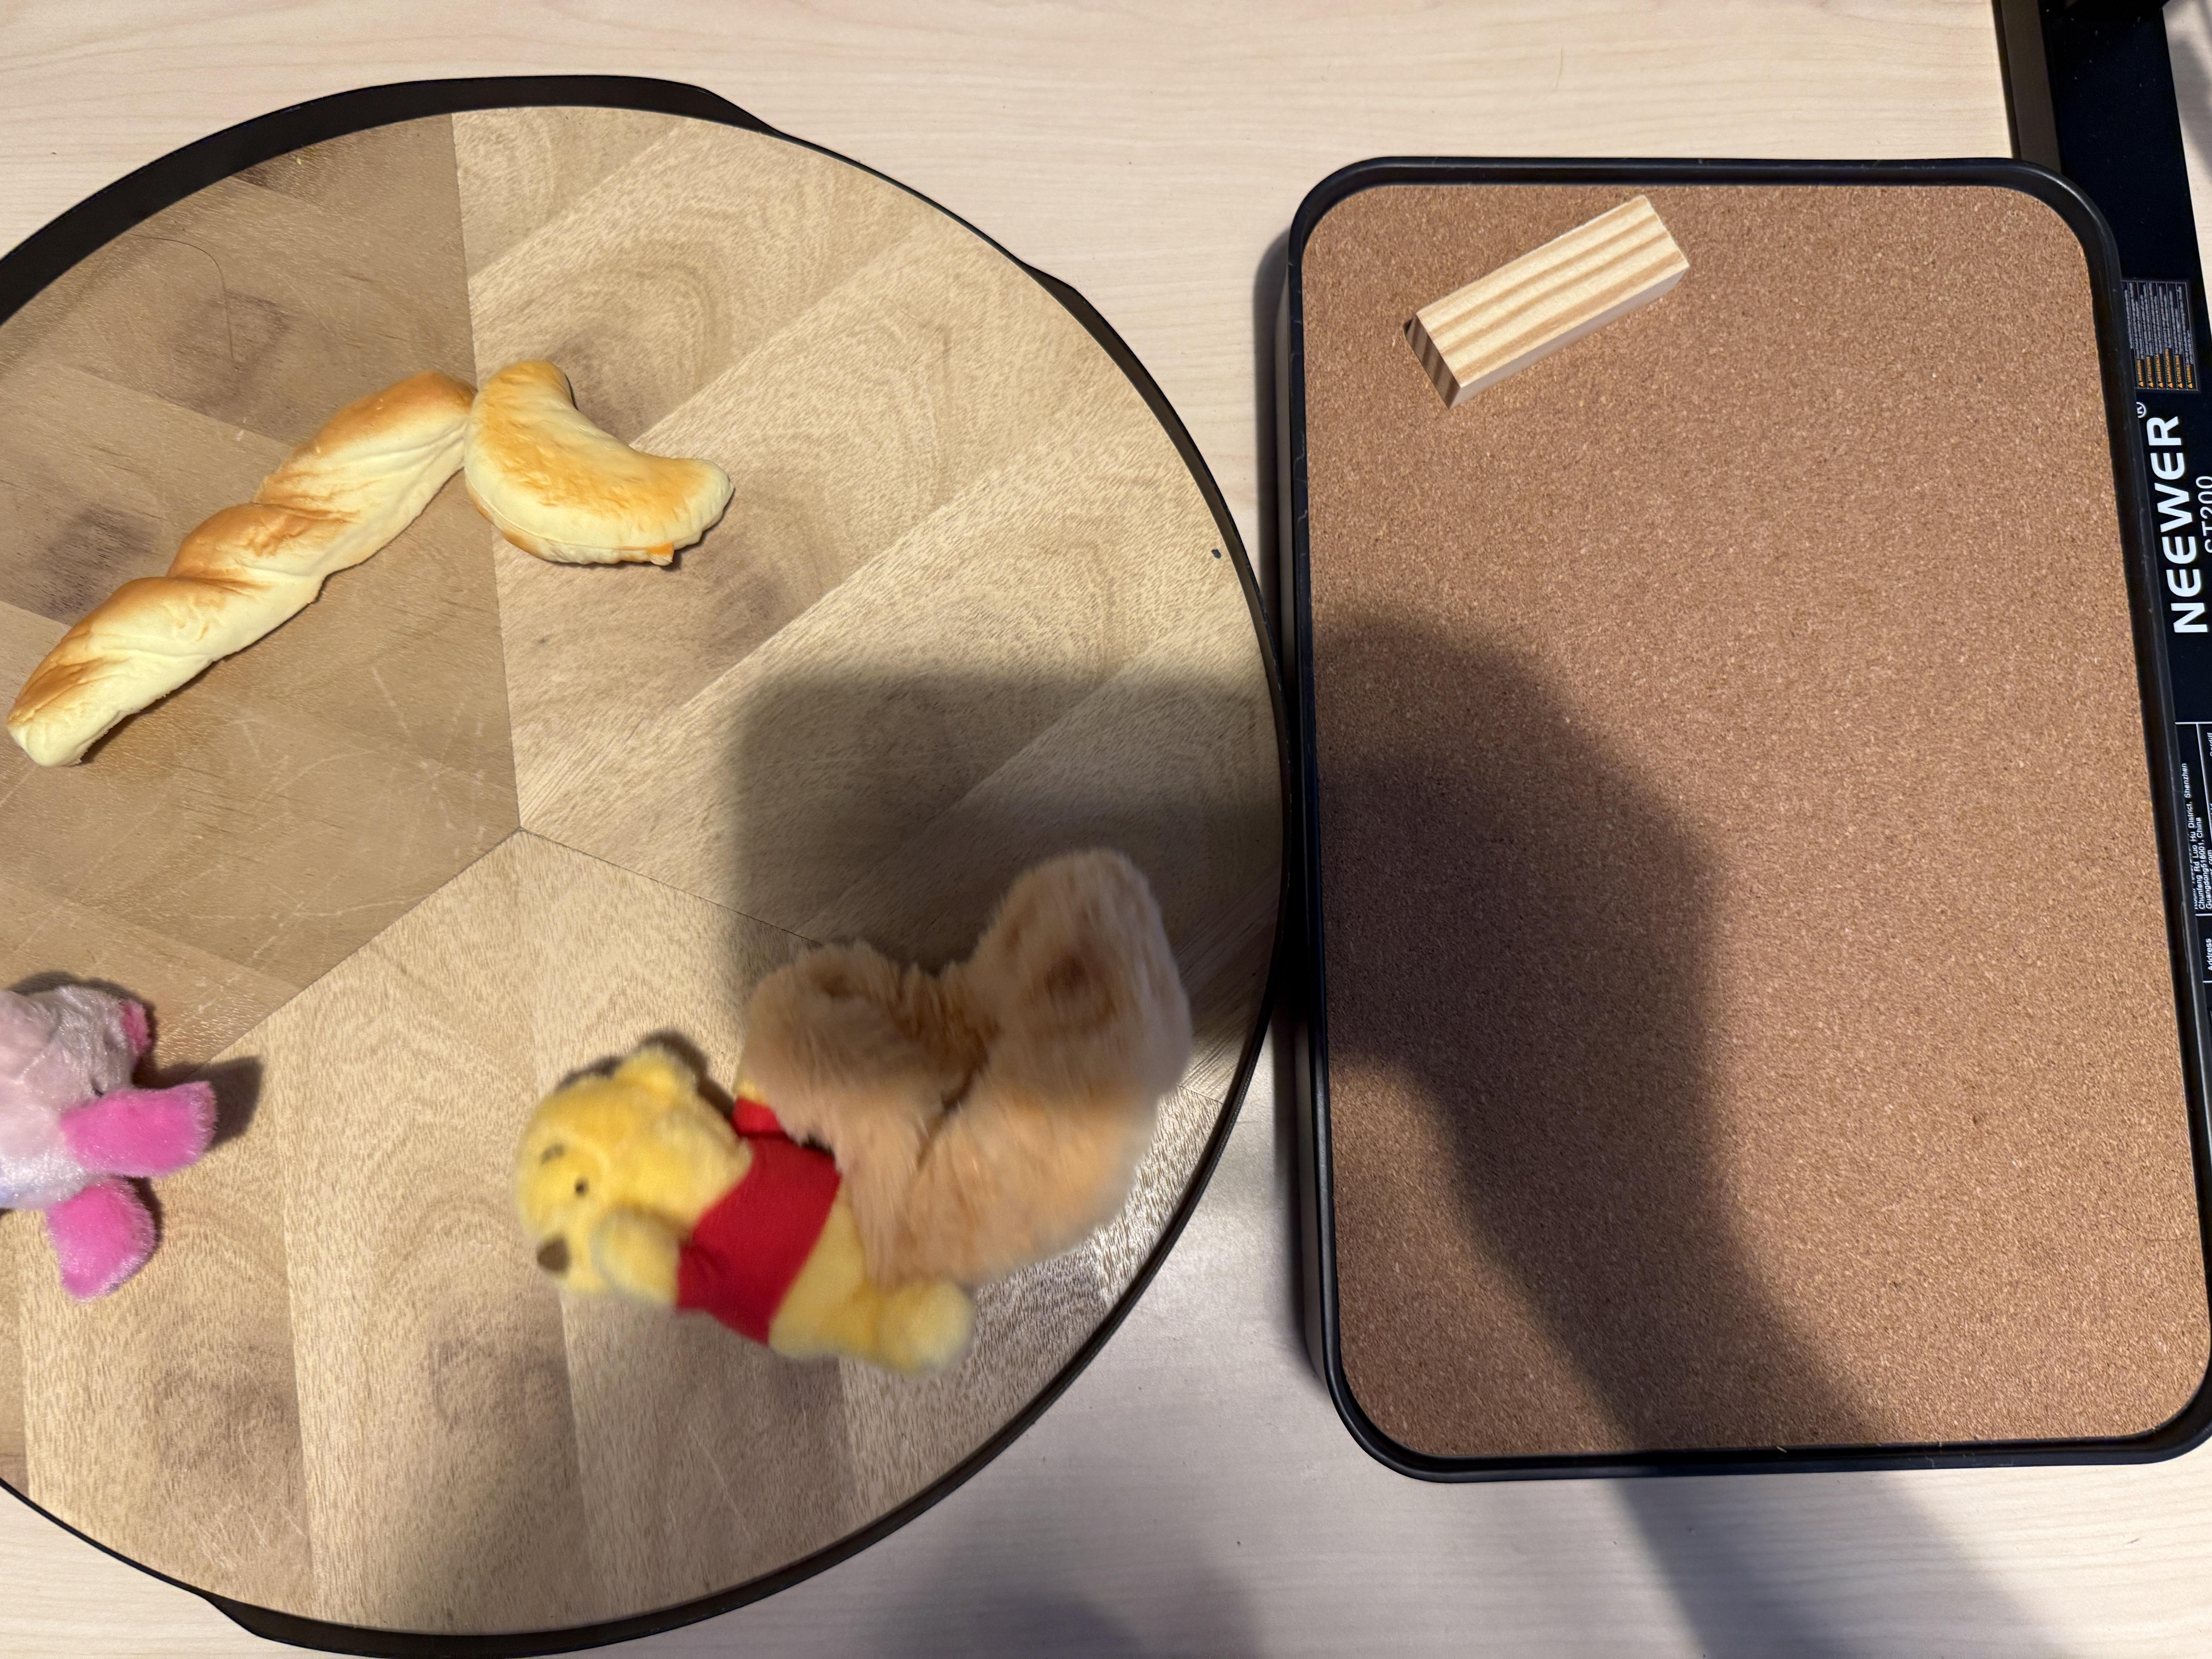block: (1392, 193, 1693, 406)
bread: (14, 373, 469, 762), (465, 359, 735, 566)
doll: (509, 831, 1193, 1382), (0, 986, 219, 1300)
